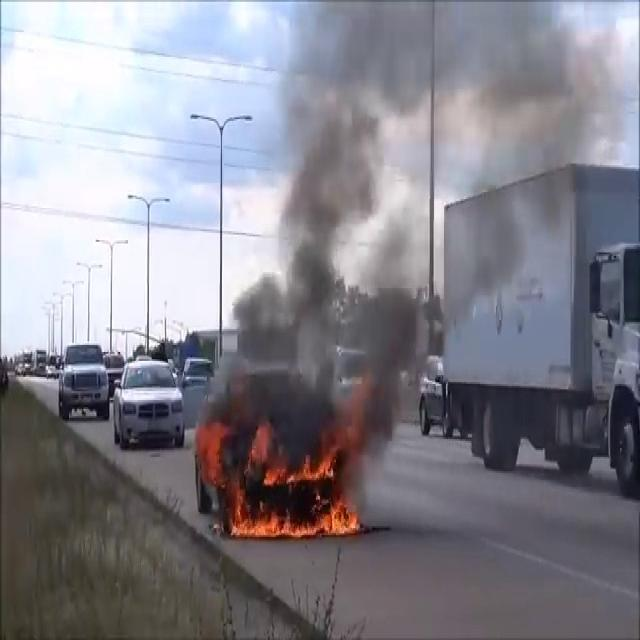Fire: (194, 414, 360, 543)
Smoke: (217, 2, 636, 457)
